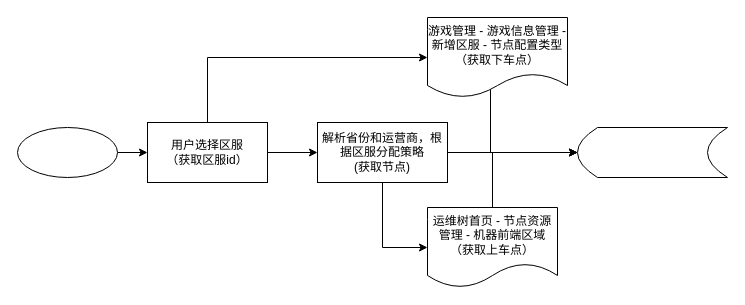
This 745x305 diagram has some shape labels left out. The shapes that lost their labels are listed below. From the top down, each one's centre as x and y in pixels, then its label:
point (67, 152): 开始
point (652, 152): 城市基准延迟
